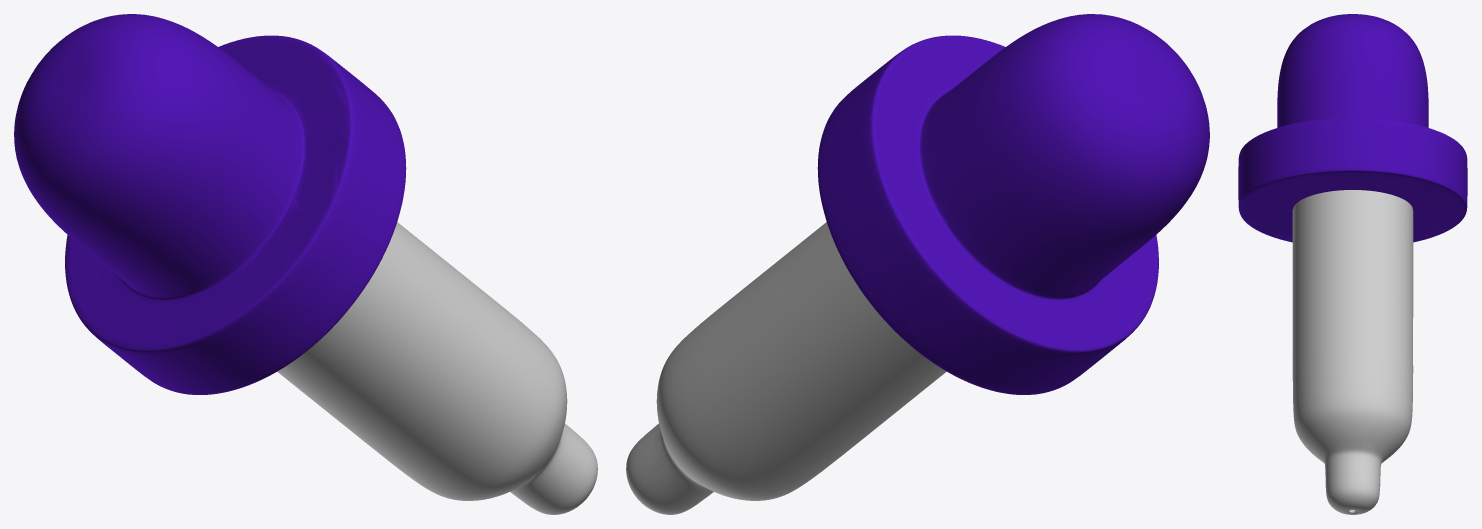
File: eyedropper.glb
3 renders of one model, left to right at view 1: azimuth 30°, elevation 25°; view 2: azimuth 150°, elevation 25°; view 3: azimuth 270°, elevation 25°, orthographic. The views are drawn at different scales.
Parts seen in each view (by area): view 1: Cylinder.003; view 2: Cylinder.003; view 3: Cylinder.003.
Boxes of the visible parts, <box> form: Cylinder.003: <box>14,14,597,514</box>; Cylinder.003: <box>626,14,1209,514</box>; Cylinder.003: <box>1238,14,1467,514</box>.
Bounding box in the file's own units: 1.95 × 1.95 × 1.1.
